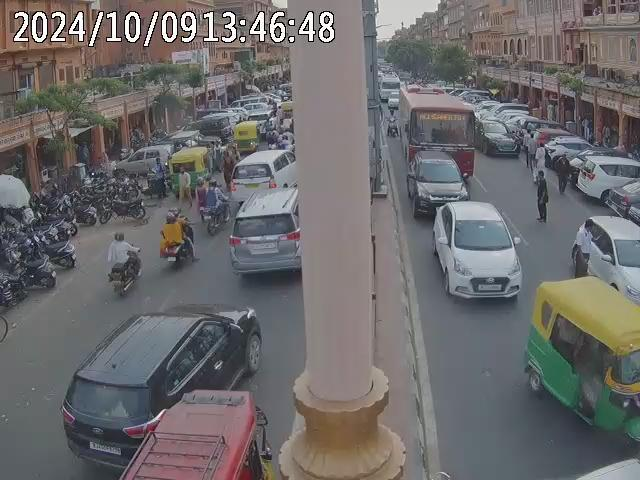auto: (524, 273, 639, 476), (93, 387, 271, 478), (169, 145, 211, 200), (233, 120, 260, 151)
bus: (401, 86, 476, 180)
car: (67, 304, 263, 466), (569, 214, 639, 359), (430, 199, 523, 305), (227, 182, 300, 278), (410, 151, 470, 213), (572, 150, 639, 204), (231, 148, 296, 192), (476, 118, 518, 157), (376, 77, 400, 101), (458, 88, 494, 103)
helmet: (113, 231, 126, 243)
license_plate: (480, 283, 502, 292), (252, 242, 276, 250)
motorbike: (101, 194, 147, 220)
motorbike-rider: (106, 230, 142, 296), (192, 178, 231, 235)
person: (532, 169, 549, 221), (173, 165, 194, 205), (554, 156, 571, 196), (522, 138, 535, 171)
scooty: (5, 252, 58, 290), (26, 232, 75, 264)
scooty-rider: (158, 208, 195, 271)
